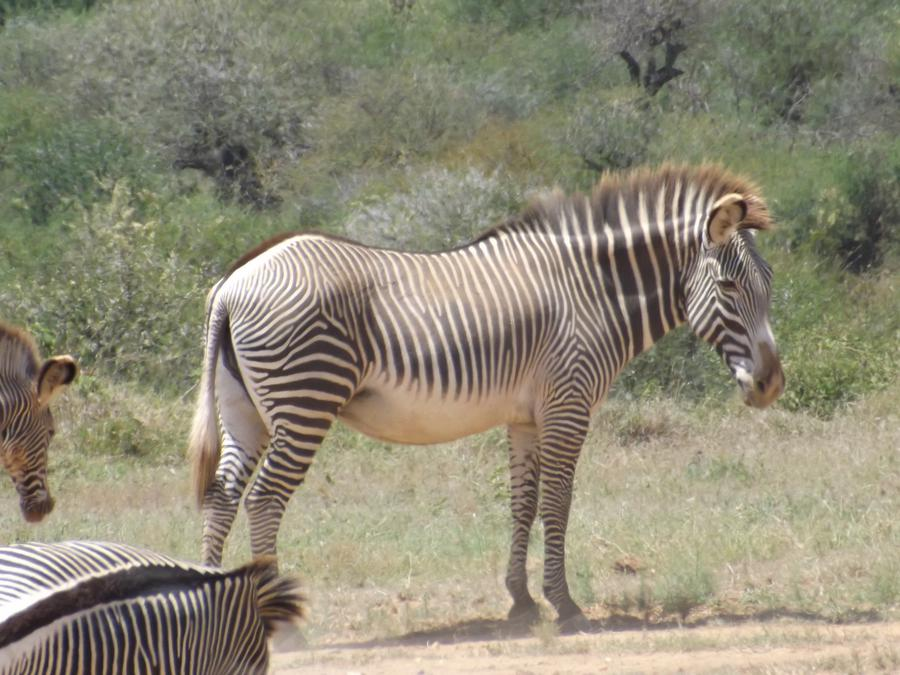zebra_grevys: (209, 218, 599, 428)
